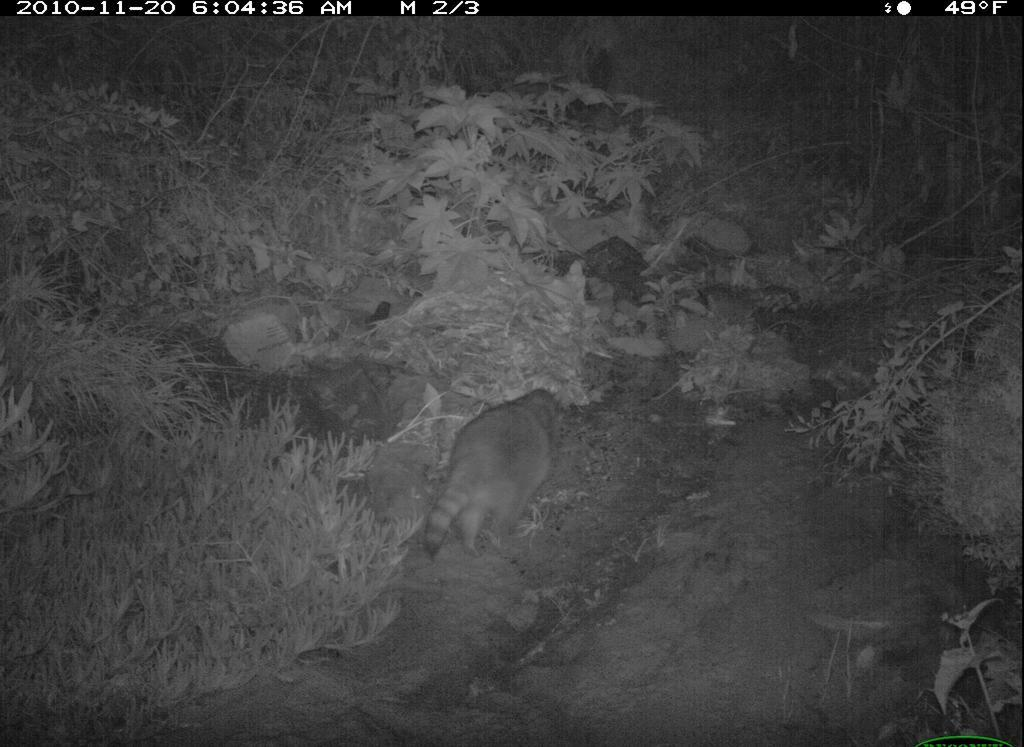raccoon: (397, 367, 614, 575)
